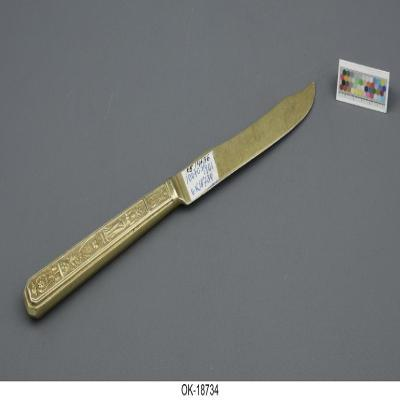dpi: (22, 82, 316, 321)
